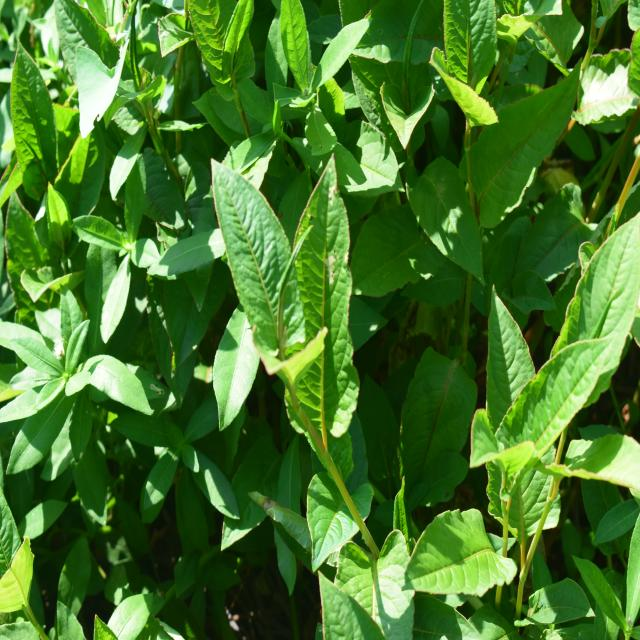Chinese_knotweed: (436, 222, 625, 595), (216, 157, 372, 450)
